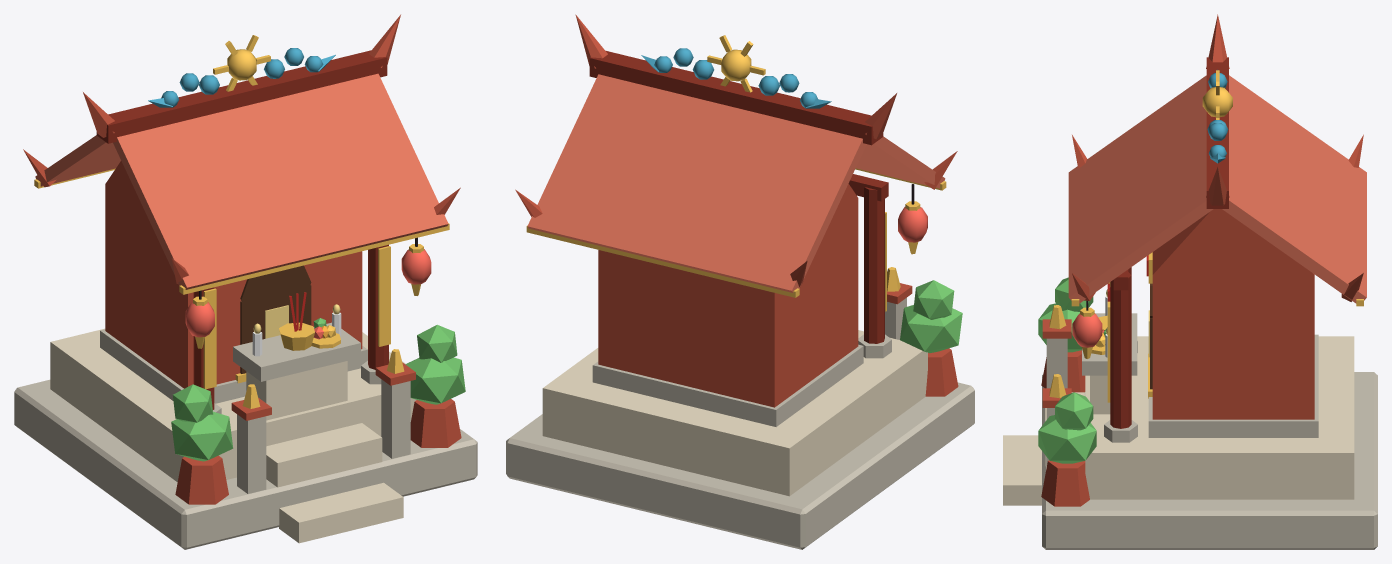
File: mieu.glb
3 renders of one model, left to right at view 1: azimuth 30°, elevation 25°; view 2: azimuth 150°, elevation 25°; view 3: azimuth 270°, elevation 25°, orthographic. The views are drawn at different scales.
Visible parts, largest first — view 1: mieu-9, mieu-0, mieu-1, mieu-2, mieu-7, mieu-3, mieu-16, mieu-4, mieu-8, mieu-10, mieu-18, mieu-5; view 2: mieu-8, mieu-2, mieu-0, mieu-1, mieu-7, mieu-3, mieu-16, mieu-9, mieu-10, mieu-18; view 3: mieu-2, mieu-0, mieu-1, mieu-9, mieu-8, mieu-7, mieu-16, mieu-3, mieu-18, mieu-10.
Boxes of the visible parts, x1,y1,x2,y2 form: mieu-9: (113, 73, 448, 289); mieu-0: (14, 322, 477, 549); mieu-1: (50, 328, 416, 543); mieu-2: (23, 14, 461, 504); mieu-7: (96, 50, 388, 409); mieu-3: (34, 35, 449, 408); mieu-16: (171, 324, 465, 461); mieu-4: (240, 265, 311, 373); mieu-8: (35, 135, 120, 186); mieu-10: (148, 48, 335, 107); mieu-18: (185, 249, 431, 337); mieu-5: (253, 304, 340, 338); mieu-8: (527, 74, 866, 292); mieu-2: (515, 14, 958, 407); mieu-0: (506, 297, 974, 549); mieu-1: (542, 330, 927, 496); mieu-7: (589, 50, 888, 343); mieu-3: (526, 35, 946, 311); mieu-16: (900, 280, 962, 353); mieu-9: (856, 136, 945, 188); mieu-10: (641, 48, 831, 108); mieu-18: (898, 207, 927, 242); mieu-2: (1041, 14, 1363, 506); mieu-0: (1042, 313, 1377, 549); mieu-1: (1003, 336, 1354, 505); mieu-9: (1068, 75, 1213, 303); mieu-8: (1222, 75, 1366, 303); mieu-7: (1110, 57, 1228, 428); mieu-16: (1038, 277, 1096, 463); mieu-3: (1049, 70, 1363, 402); mieu-18: (1072, 313, 1102, 347); mieu-10: (1207, 69, 1228, 163).
Size of the model in its own units: 2.74 by 3.39 by 2.84.
